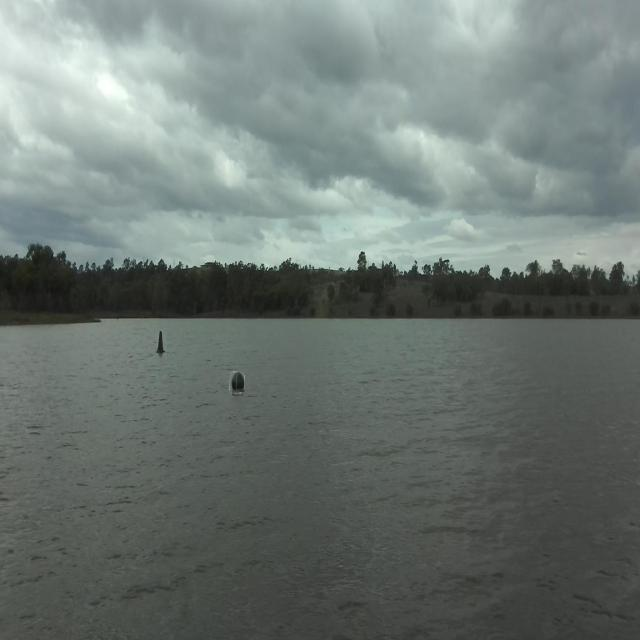Black_Buoy: (225, 371, 249, 397), (152, 329, 170, 358)
